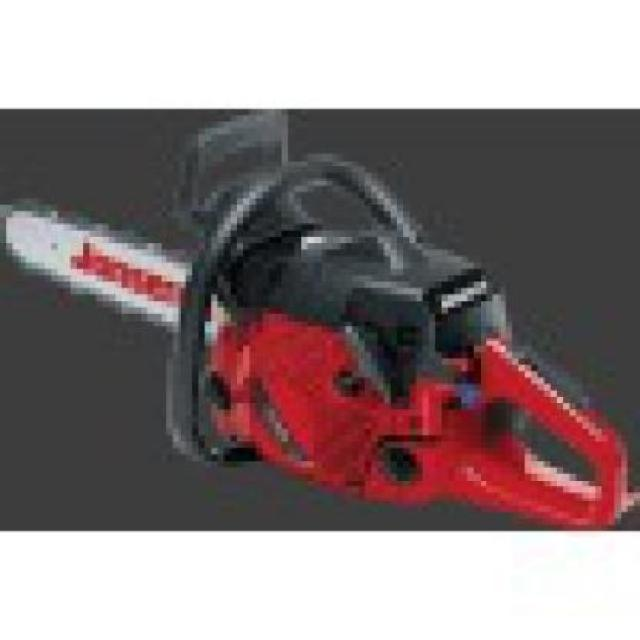Chainsaw: (0, 112, 632, 524)
